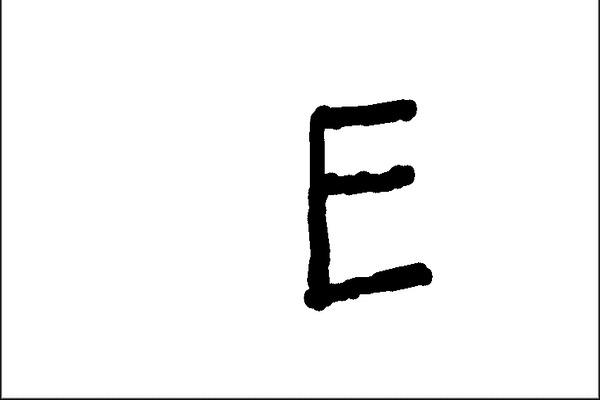E: (297, 92, 435, 313)
